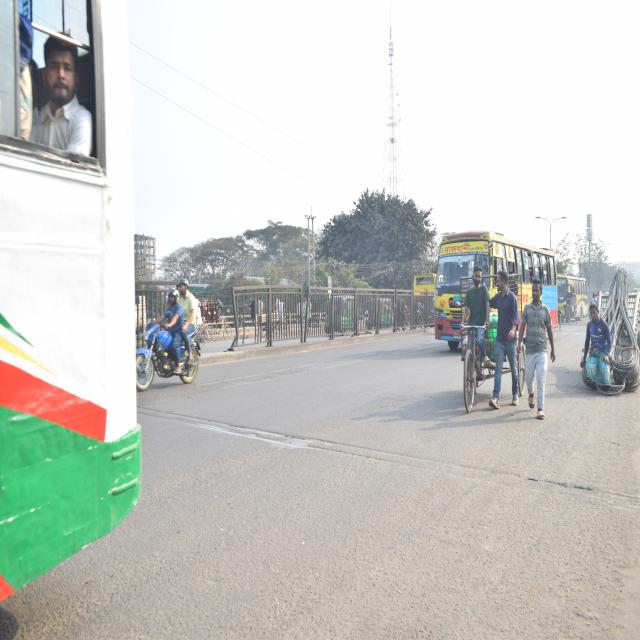bus: (0, 0, 141, 592), (438, 217, 555, 347), (556, 273, 588, 315)
motorbike: (139, 318, 201, 398)
